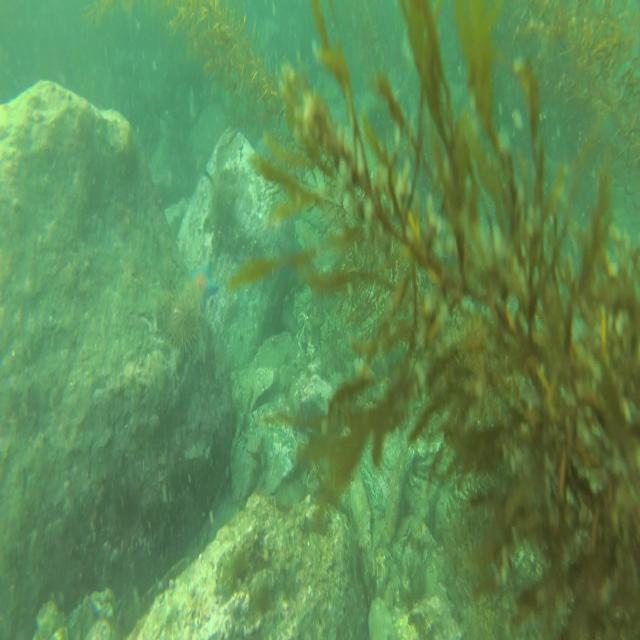echinus: (164, 285, 203, 354)
starfish: (184, 257, 218, 317)
